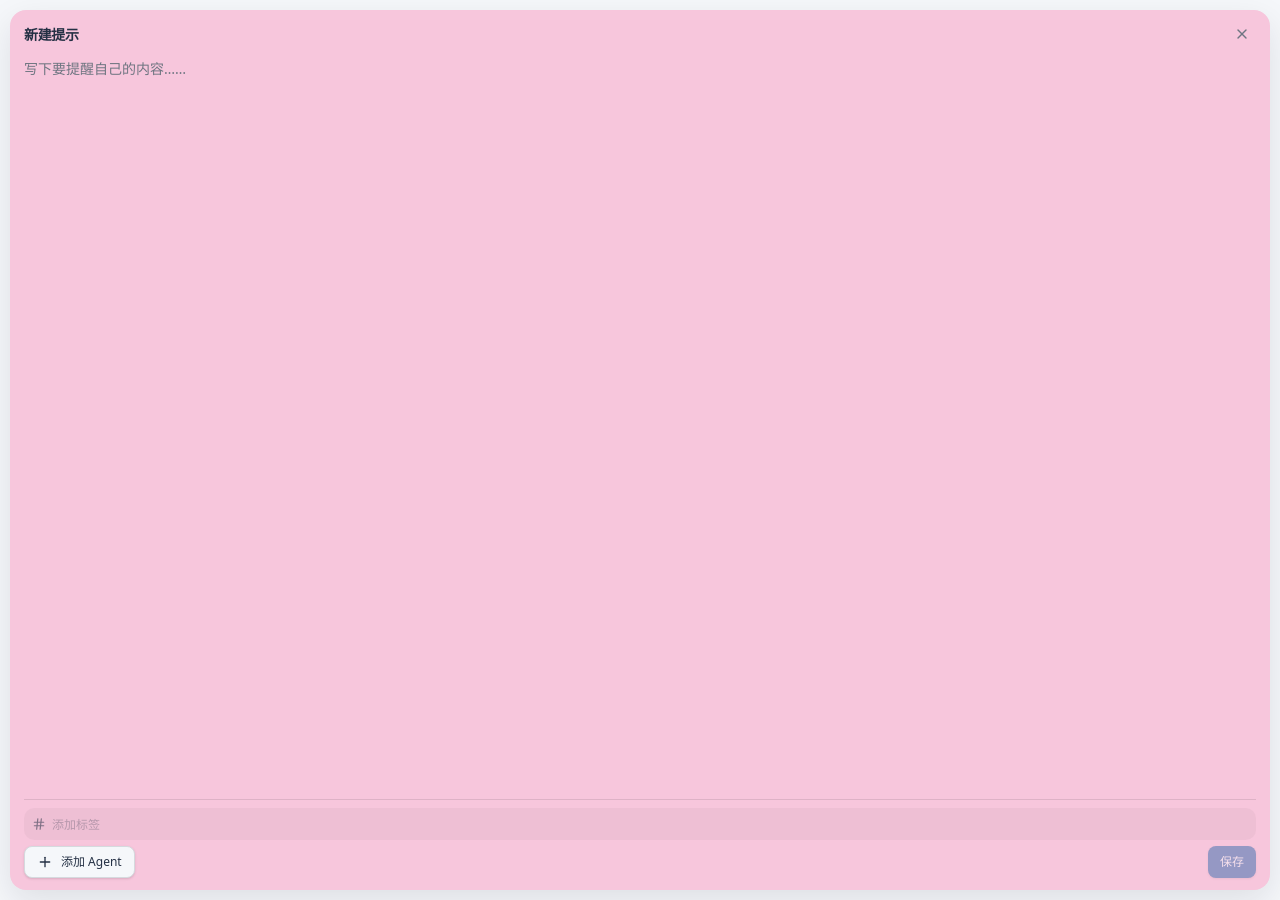
Test case: 快捷新建窗口 › Agent 每个只显示一次
What coordinates should you click on to do the following:
click the button "添加 Agent"
I would click on:
 (79, 862)
Its box is [24, 846, 135, 878].
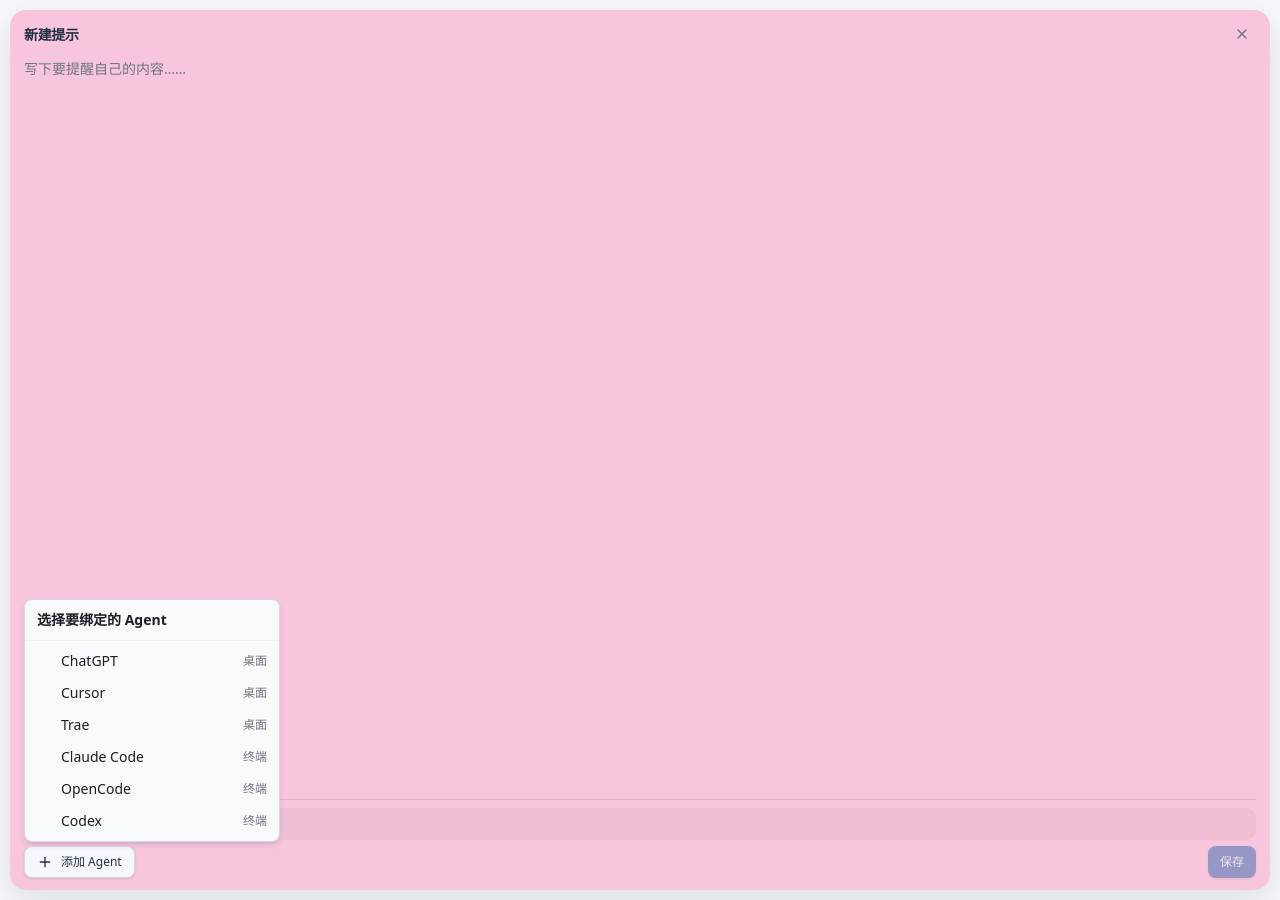
What coordinates should you click on to do the following:
click the menu item "Cursor 桌面"
I would click on:
 (83, 692)
Its box is [61, 683, 267, 702].
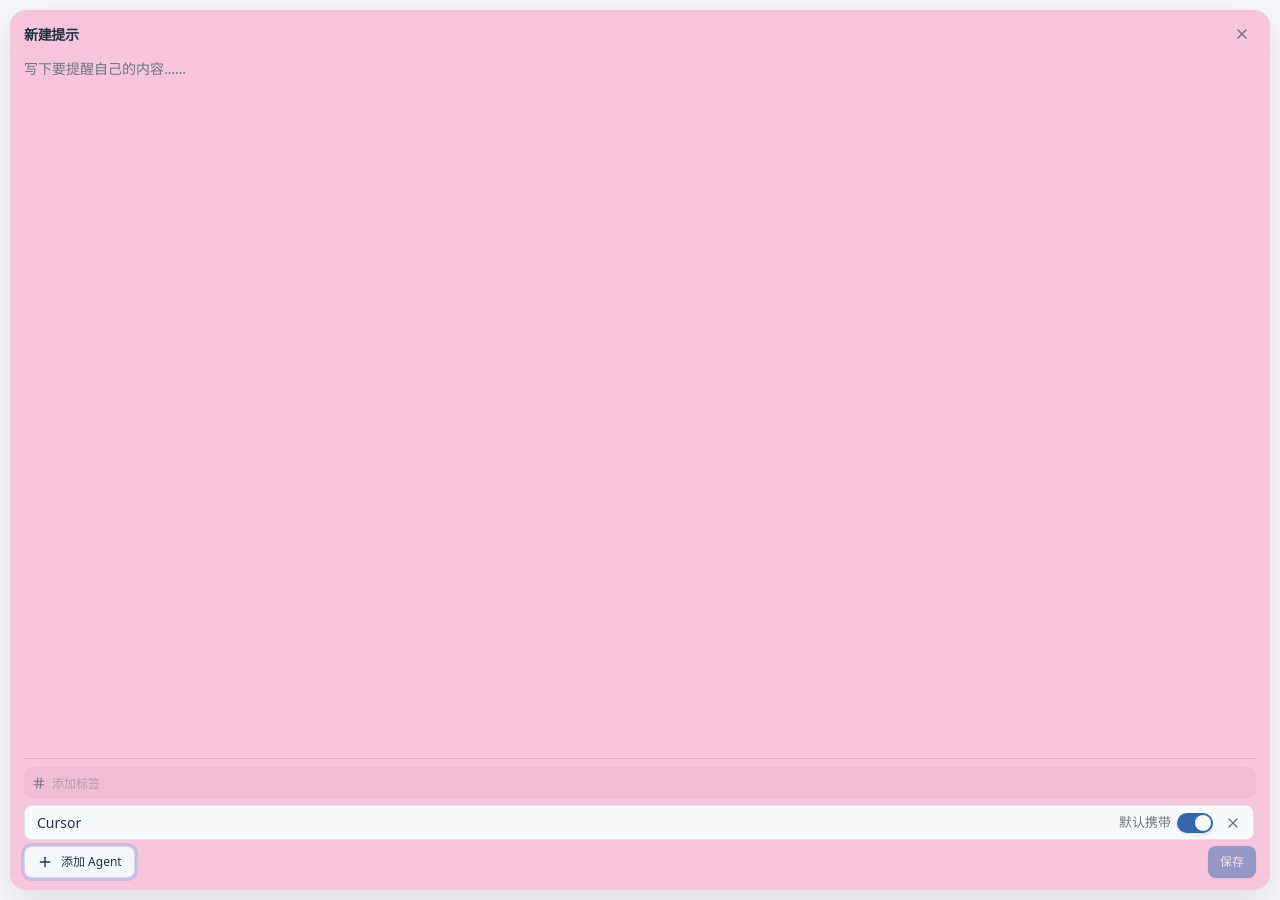
Now the text "Cursor" is shown once, box [37, 812, 81, 833]
